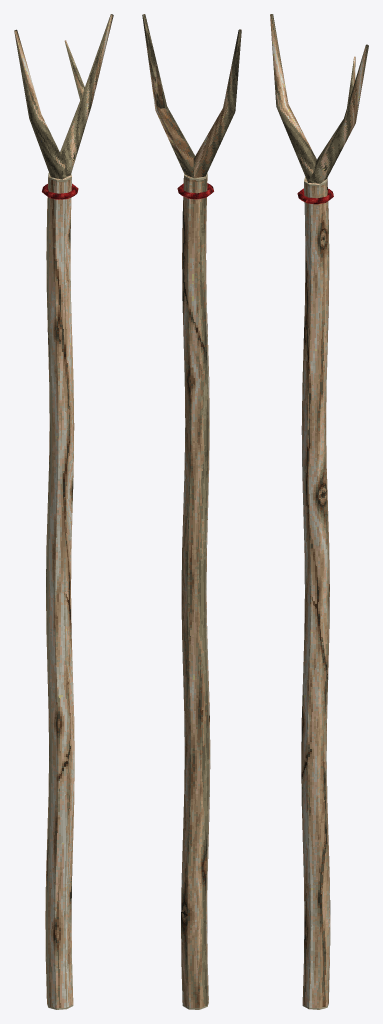
Rendered from antler_staff.glb.
3 views of the same model, side by side, from view 1: azimuth 30°, elevation 25°; view 2: azimuth 150°, elevation 25°; view 3: azimuth 330°, elevation 25° (orthographic).
Visible parts, largest first — view 1: antler_staff; view 2: antler_staff; view 3: antler_staff.
Boxes of the visible parts, x1,y1,x2,y2 form: antler_staff: [14, 14, 113, 1009]; antler_staff: [142, 14, 241, 1009]; antler_staff: [270, 14, 368, 1009].
Bounding box in the file's own units: 0.1335 × 1.27 × 0.0627.
Materials: 1 (1 with a texture image).
